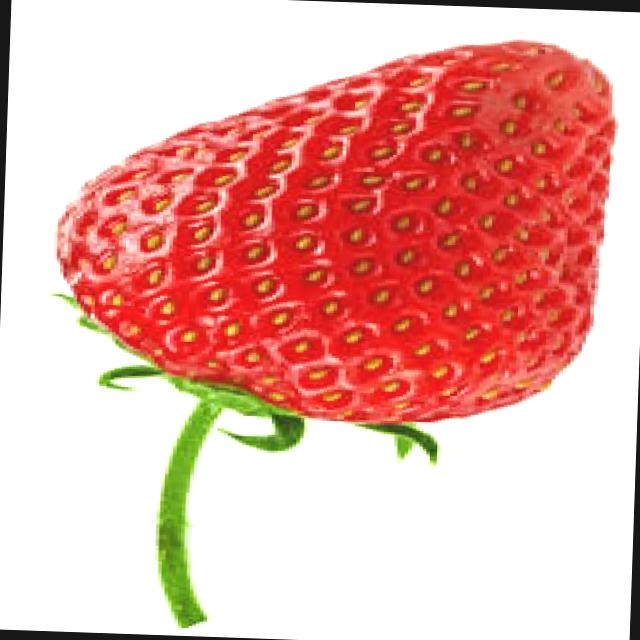strawberry: (35, 21, 630, 498)
